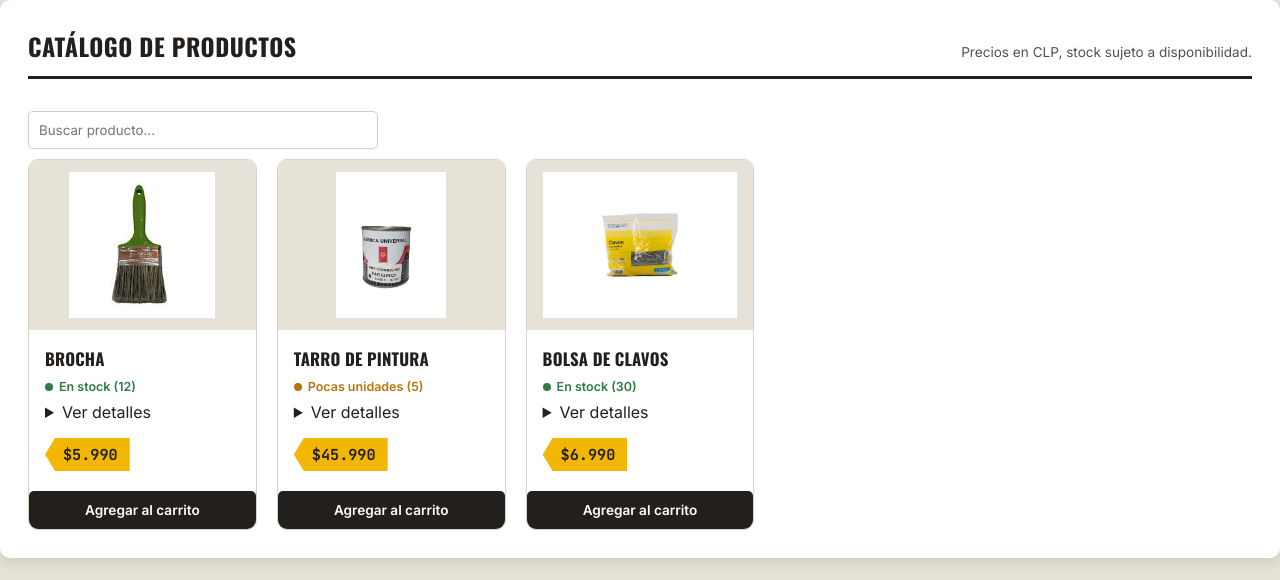
Agregar al carrito descuenta el stock y guarda el producto en el carrito
interaccion del usuario (el primer botón es el de la Brocha)
Click the button "Agregar al carrito" below "$5.990" at point(142, 510), box [29, 491, 256, 529]
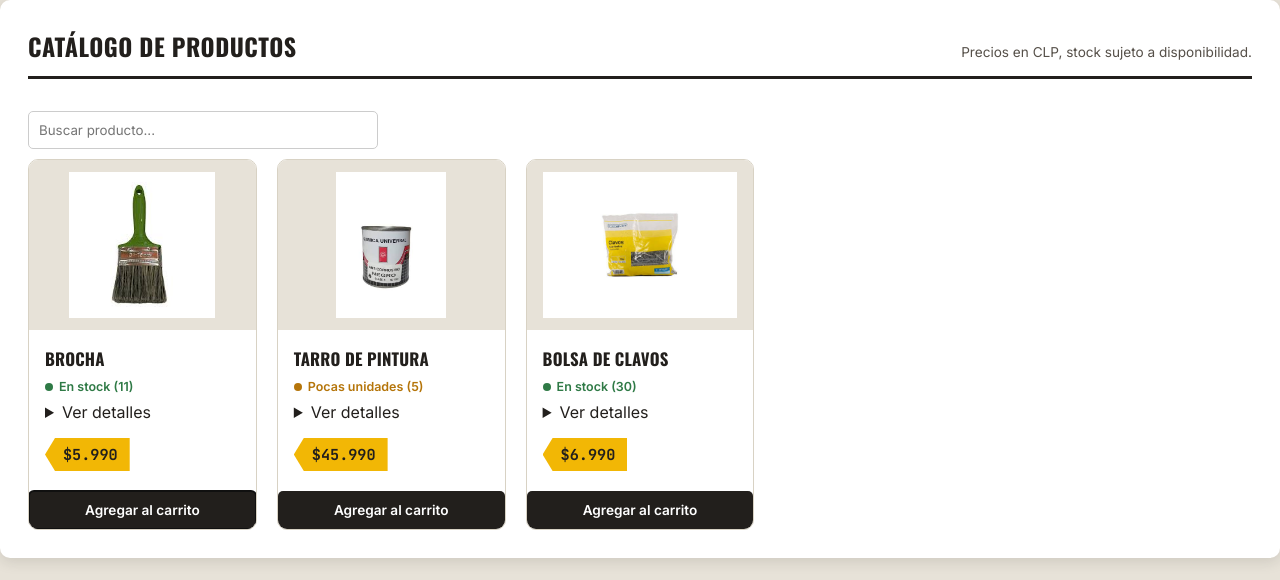
Expected: the text "En stock (11)" is shown, [45, 379, 133, 394]
